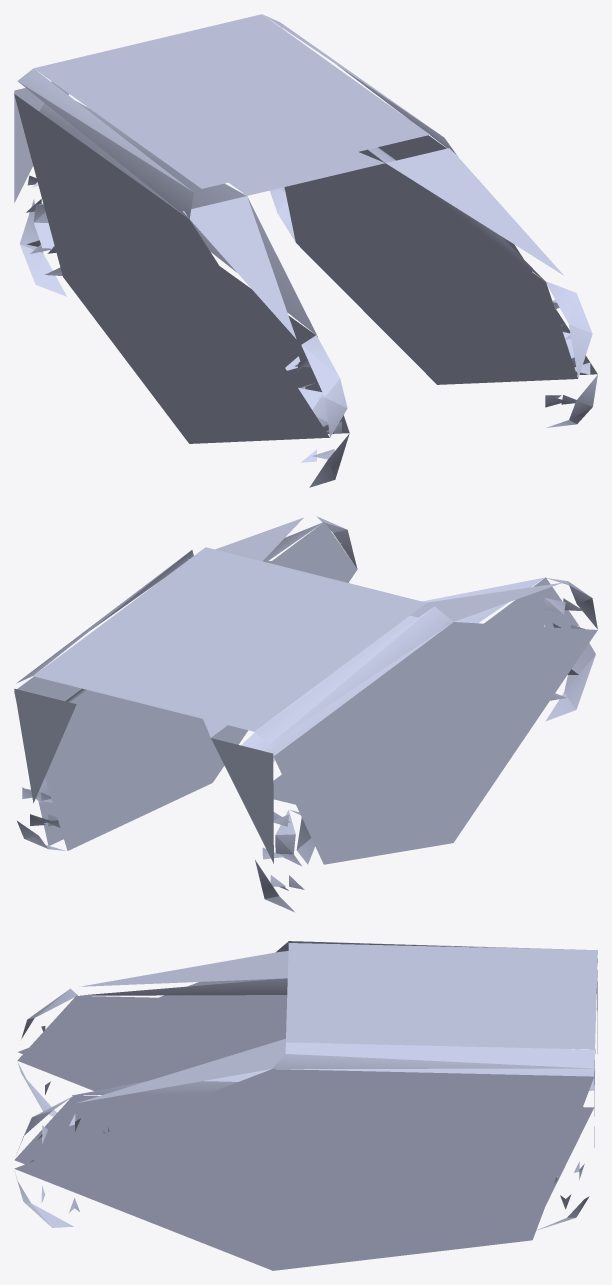
Rendered from part_20_opt.obj.
3 views of the same model, one above another, from view 1: azimuth 30°, elevation 25°; view 2: azimuth 150°, elevation 25°; view 3: azimuth 270°, elevation 25° (orthographic). The views are drawn at different scales.
Visible parts, largest first — view 1: NONE_DC_Shell; view 2: NONE_DC_Shell; view 3: NONE_DC_Shell.
Boxes of the visible parts, x1,y1,x2,y2 form: NONE_DC_Shell: (14, 14, 597, 487); NONE_DC_Shell: (14, 516, 597, 912); NONE_DC_Shell: (14, 941, 597, 1270).
Size of the model in its own units: 48.85 by 41.89 by 101.
